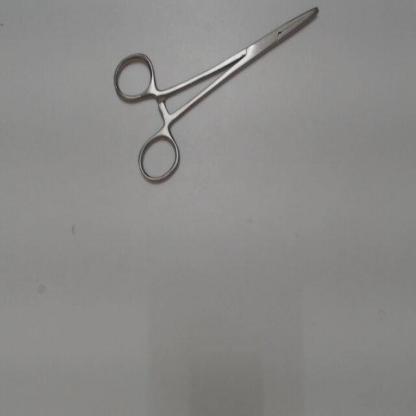Mayo Needle Holder: (104, 3, 329, 194)
